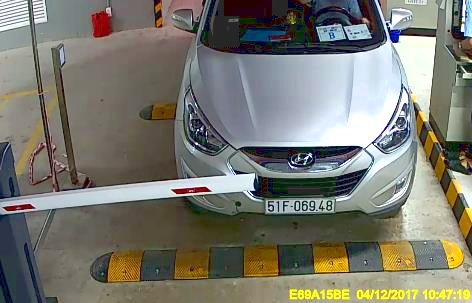plate: (262, 193, 336, 218)
